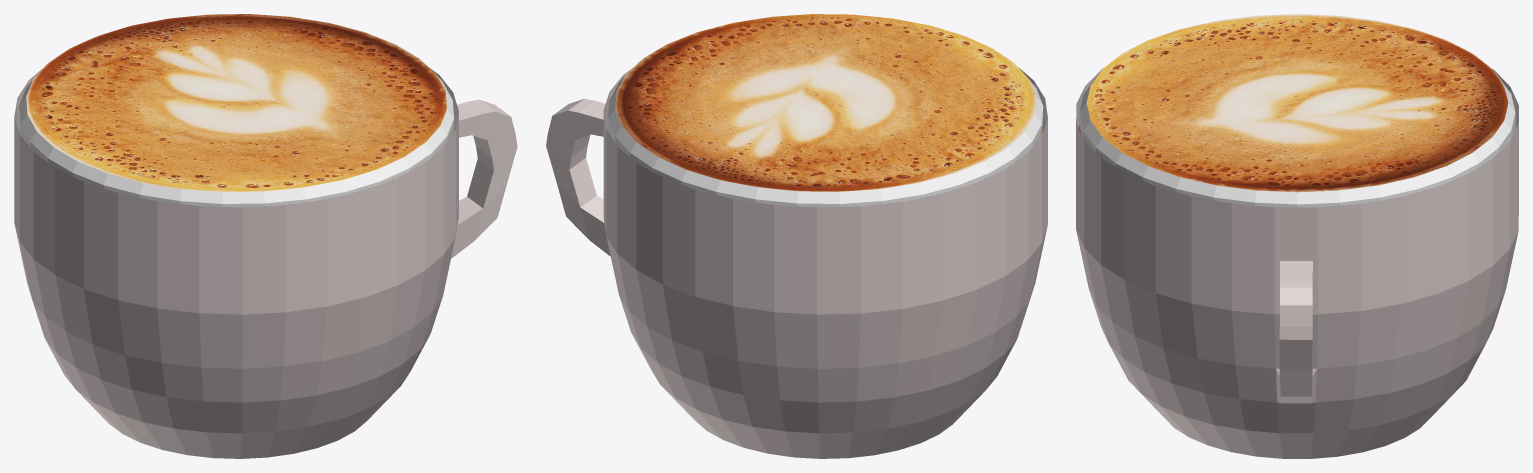
The model's file is tazaCafe.glb.
3 renders of one model, left to right at view 1: azimuth 30°, elevation 25°; view 2: azimuth 150°, elevation 25°; view 3: azimuth 270°, elevation 25°, orthographic.
Parts seen in each view (by area): view 1: Circle, Cylinder; view 2: Circle, Cylinder; view 3: Circle, Cylinder.
Boxes of the visible parts, box(x1,y1,x2,y2) form: Circle: box(14, 67, 517, 458); Cylinder: box(19, 14, 454, 207); Circle: box(546, 68, 1047, 458); Cylinder: box(608, 14, 1043, 207); Circle: box(1076, 68, 1518, 458); Cylinder: box(1079, 14, 1515, 207).
Size of the model in its own units: 3.84 by 2.35 by 3.17.
3 materials, 2 textured.
